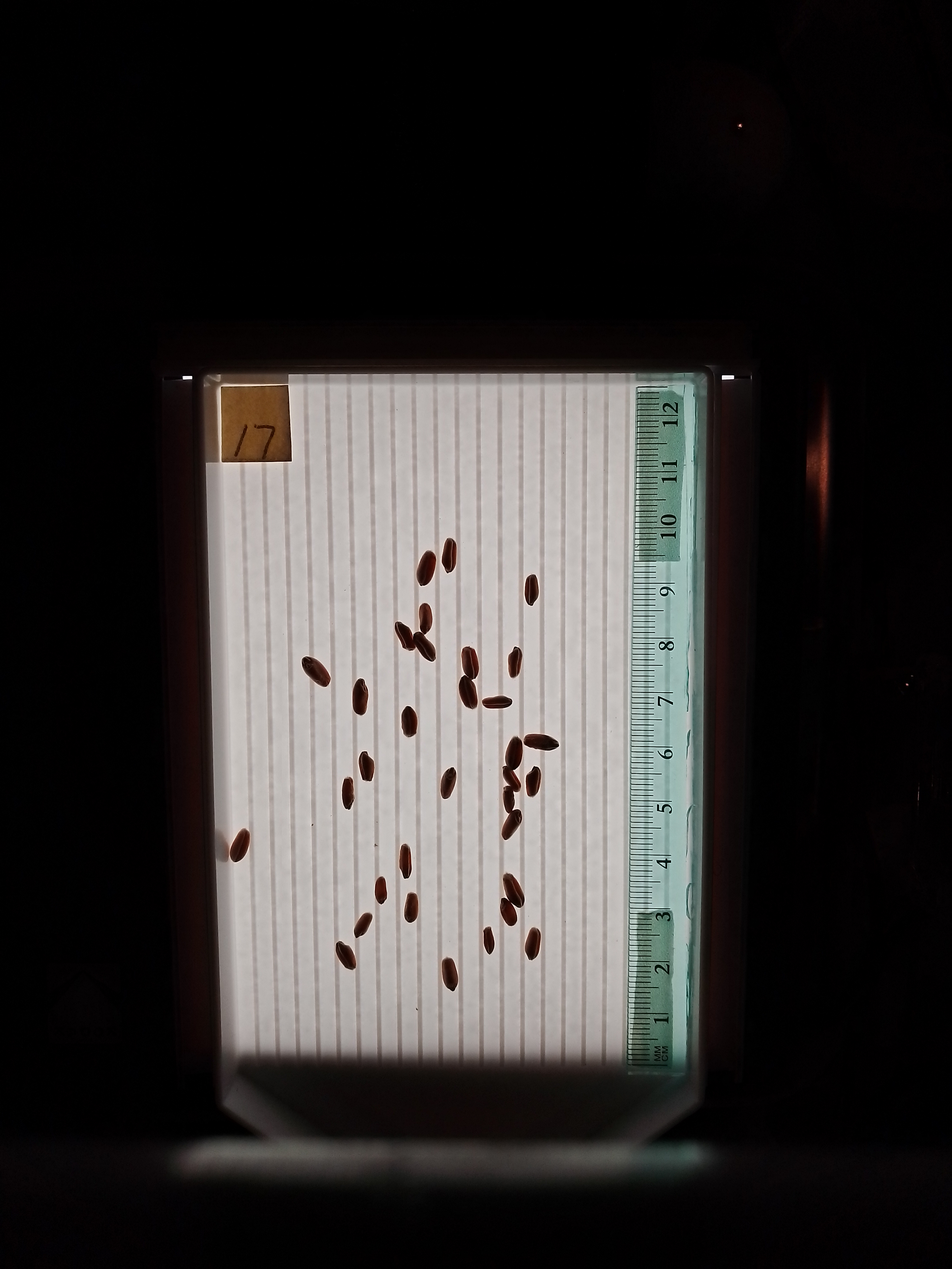seed mask: (302, 656, 330, 686), (417, 551, 438, 586), (503, 874, 524, 907), (230, 829, 250, 862), (335, 941, 356, 970), (459, 676, 477, 709), (524, 734, 558, 751), (502, 809, 521, 839), (414, 634, 435, 661), (506, 737, 523, 770), (442, 538, 457, 573), (353, 679, 368, 714), (462, 647, 478, 679), (442, 958, 458, 990), (525, 928, 541, 960), (395, 622, 413, 650), (440, 769, 457, 798), (401, 707, 417, 737), (359, 753, 375, 782), (526, 767, 541, 797), (354, 913, 372, 938), (404, 893, 419, 922), (399, 845, 412, 878), (503, 767, 520, 792), (525, 575, 539, 605), (501, 900, 517, 926), (508, 648, 522, 677), (419, 604, 432, 634), (483, 695, 510, 709), (342, 778, 354, 809), (374, 877, 387, 904), (503, 789, 514, 811)
